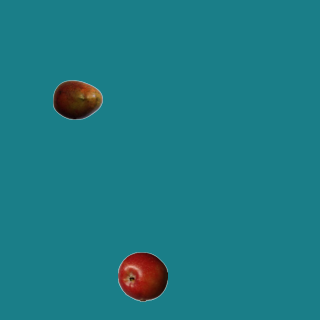Apple Braeburn: (117, 251, 167, 301)
Mango Red: (52, 74, 102, 124)
